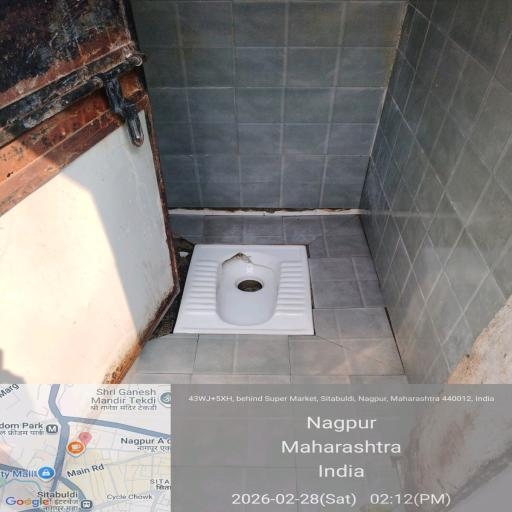clean_floor: (177, 218, 400, 387), (179, 16, 370, 203), (374, 86, 512, 316), (0, 179, 128, 340)
clean_indian: (189, 246, 305, 331)
partial_dirty_floor: (0, 0, 166, 166), (298, 2, 488, 70), (126, 248, 183, 339), (430, 330, 512, 380)
